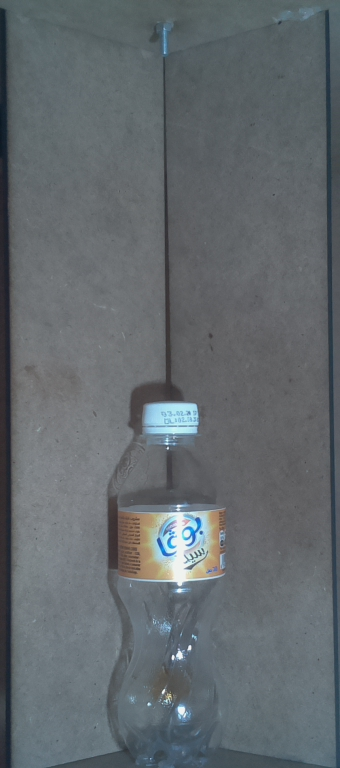Bouteille_0.3L: (107, 396, 243, 768)
